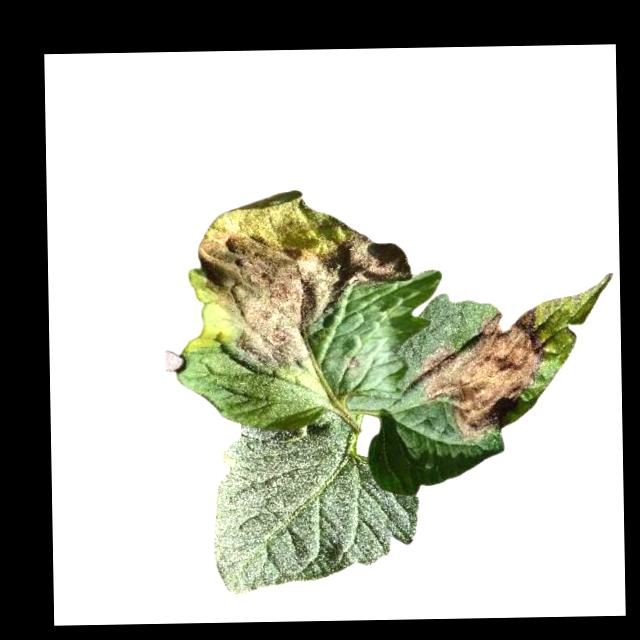Late_blight: (195, 187, 414, 365), (416, 305, 546, 444)
healthy: (210, 420, 421, 597)
